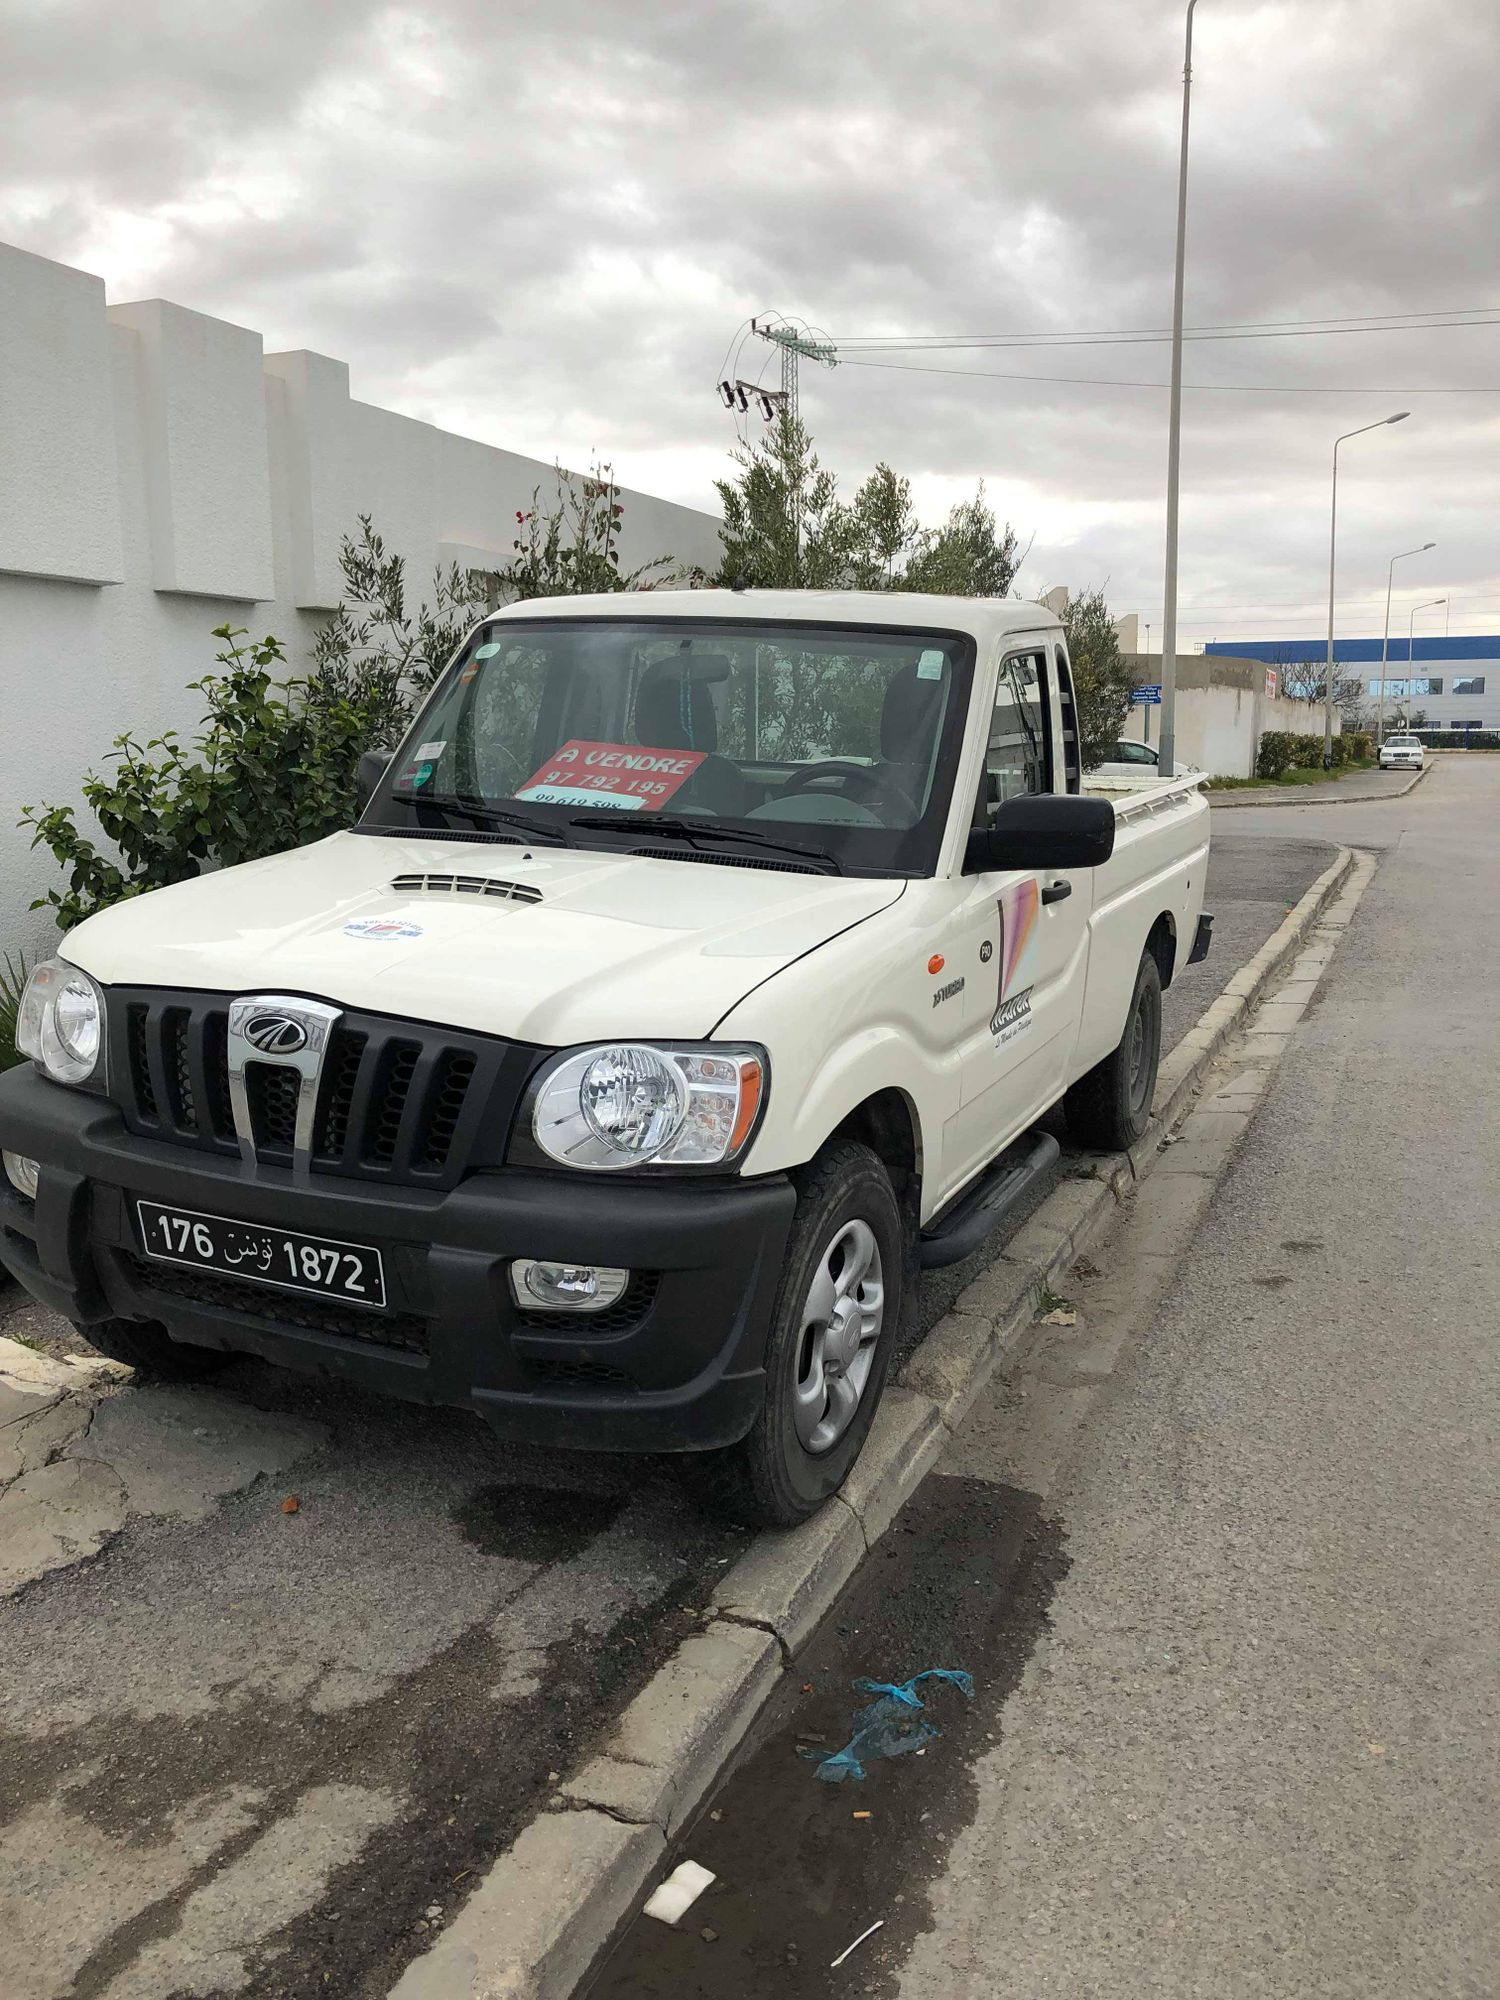LP: (136, 1199, 386, 1310)
